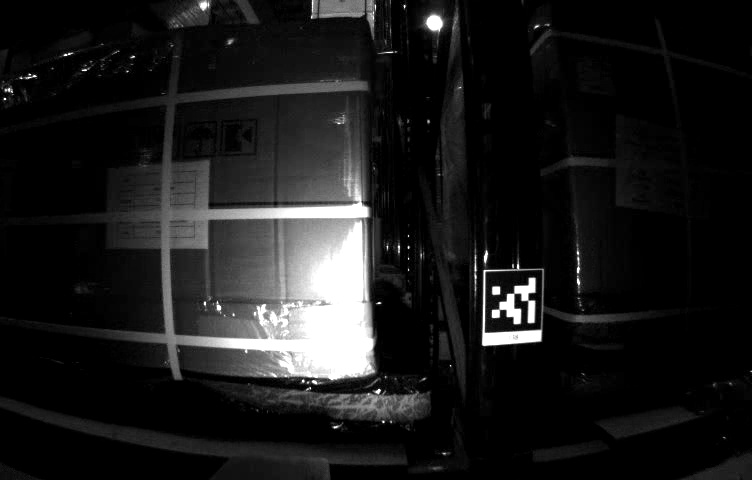True Barcode: (579, 60, 620, 98)
